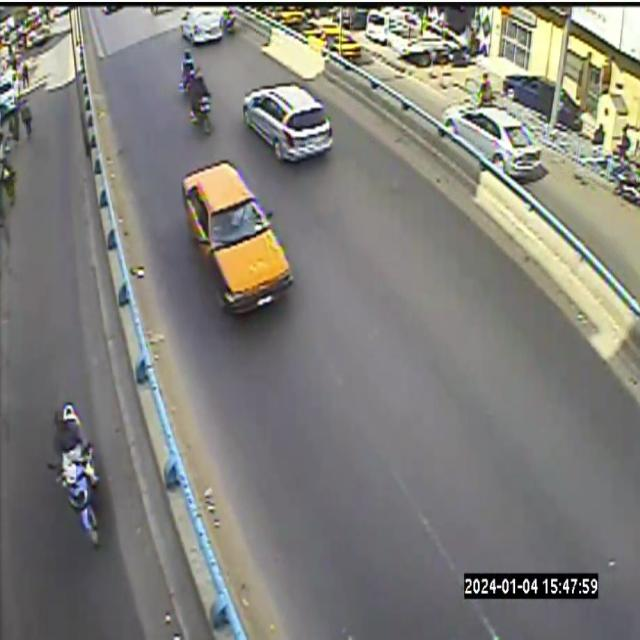car: (78, 39, 247, 639), (182, 158, 297, 329), (182, 161, 292, 313), (442, 103, 542, 177), (503, 75, 554, 120), (557, 91, 581, 130)
